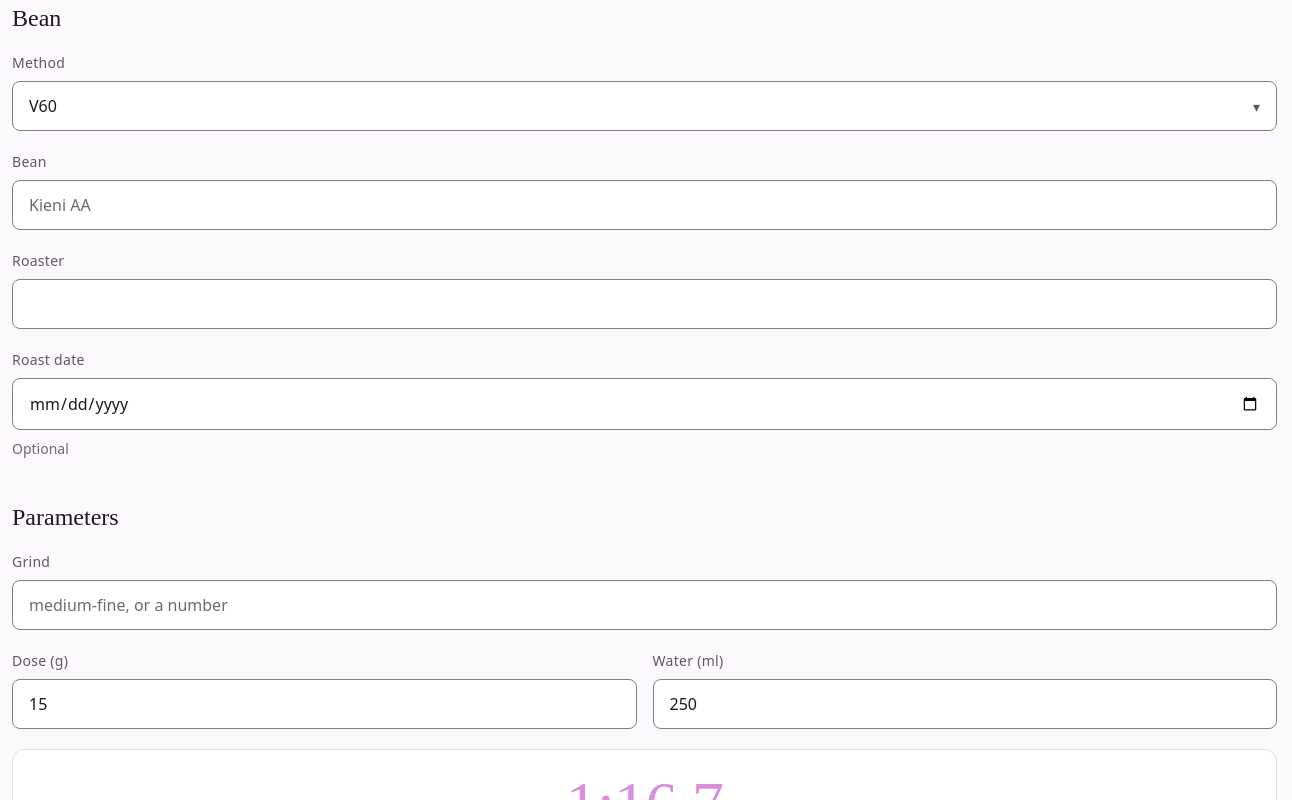
it: BrewForm › refuses to submit without a bean name and says why
The image size is (1292, 800).
Step 1. Type "medium" into the field labelled "Grind" → (644, 605), box x1=12 y1=580 x2=1277 y2=630
(page scrolled)
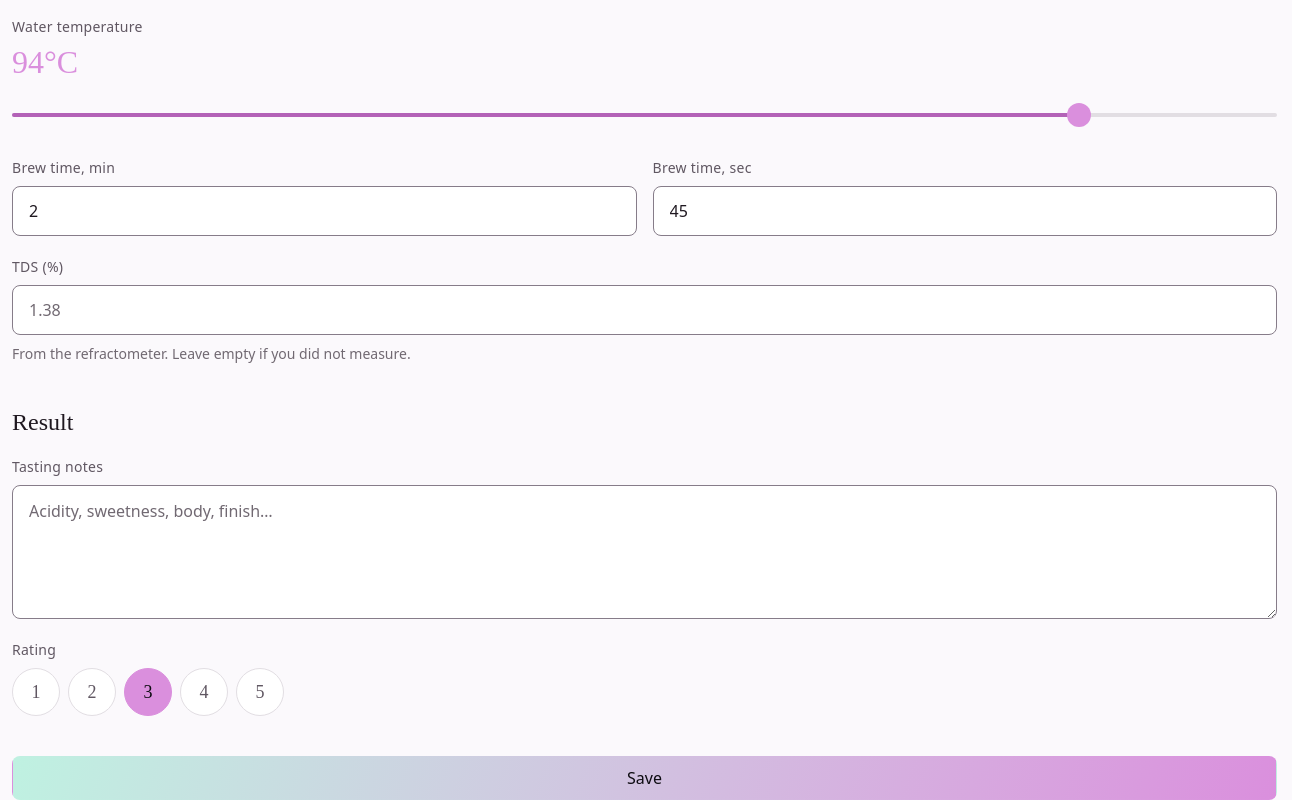
Step 2. Click the button "Save" → (644, 778), box x1=12 y1=756 x2=1277 y2=799
(page scrolled)
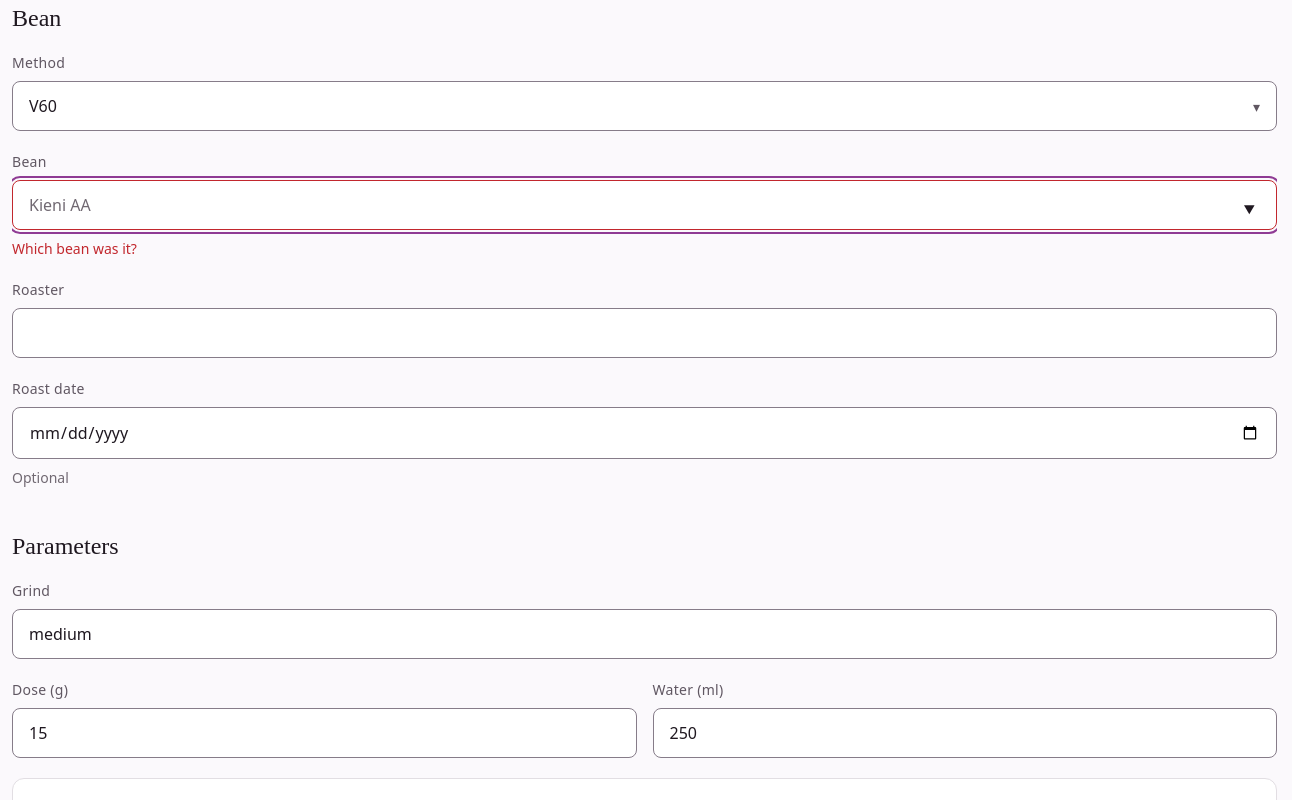
Expected: the text "Which bean was it?" is shown, x1=12 y1=239 x2=137 y2=258
